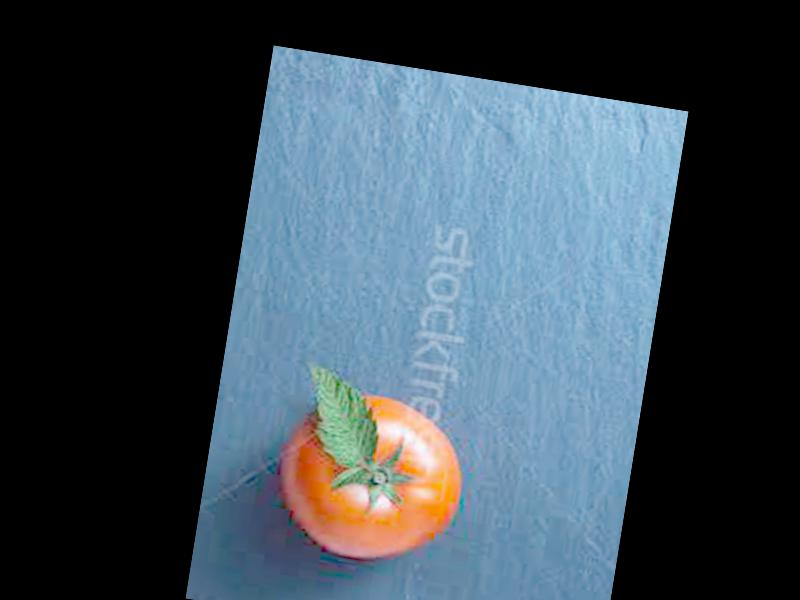Tomato: (273, 381, 473, 570)
